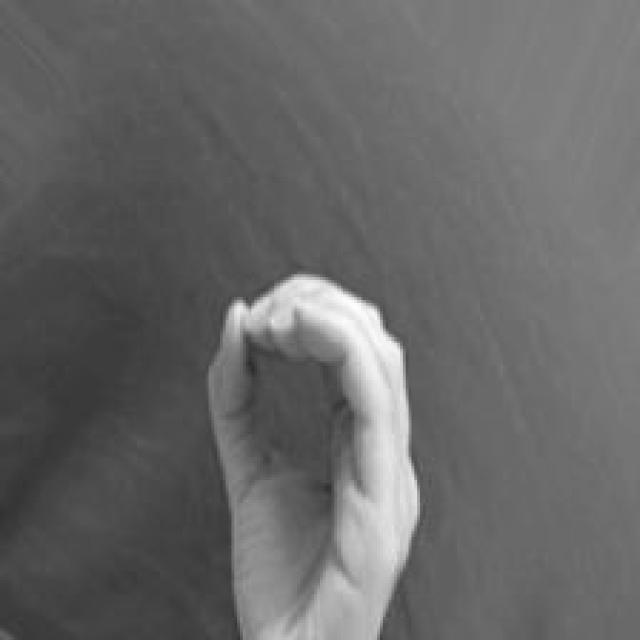O: (192, 271, 444, 640)
